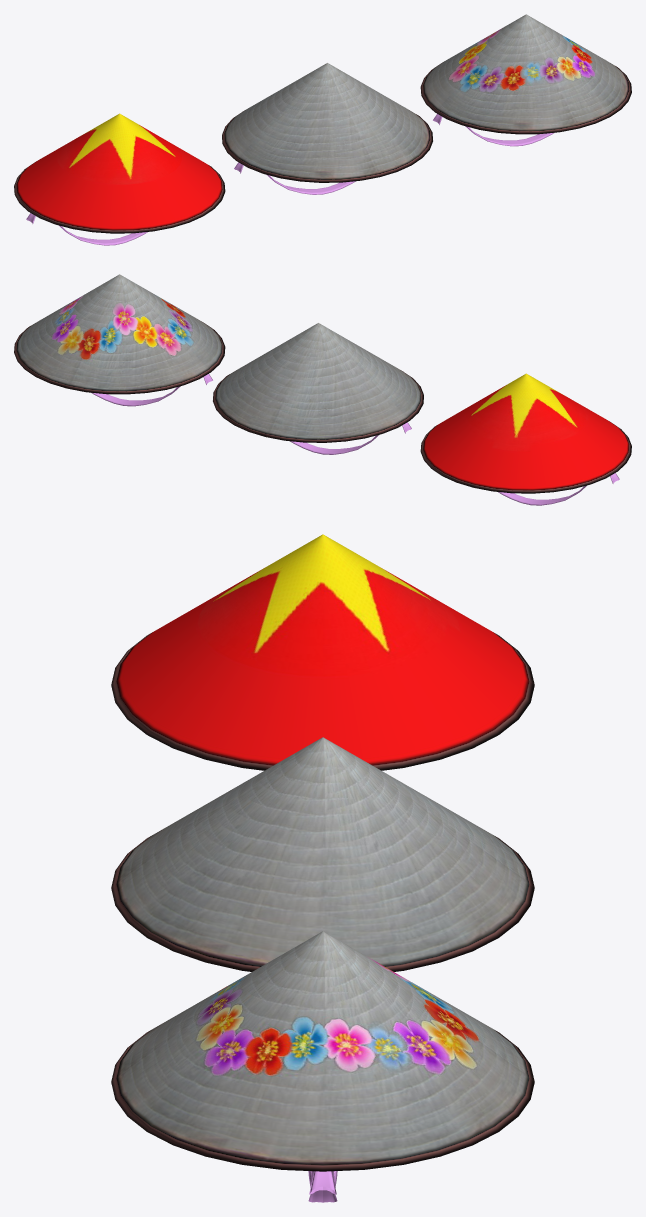
The model's file is non_la.glb.
3 renders of one model, top to bottom at view 1: azimuth 30°, elevation 25°; view 2: azimuth 150°, elevation 25°; view 3: azimuth 270°, elevation 25°, orthographic. The views are drawn at different scales.
Visible parts, largest first — view 1: Nonla1, Nonla3, Nonla2; view 2: Nonla1, Nonla3, Nonla2; view 3: Nonla3, Nonla1, Nonla2.
Boxes of the visible parts, x1,y1,x2,y2 form: Nonla1: [14, 113, 225, 245]; Nonla3: [420, 14, 631, 146]; Nonla2: [222, 63, 432, 194]; Nonla1: [420, 373, 631, 505]; Nonla3: [14, 274, 225, 406]; Nonla2: [213, 323, 423, 454]; Nonla3: [111, 931, 534, 1202]; Nonla1: [111, 534, 534, 770]; Nonla2: [111, 737, 534, 971].
Size of the model in its own units: 63.32 by 13.16 by 19.68.
6 materials, 3 textured.
